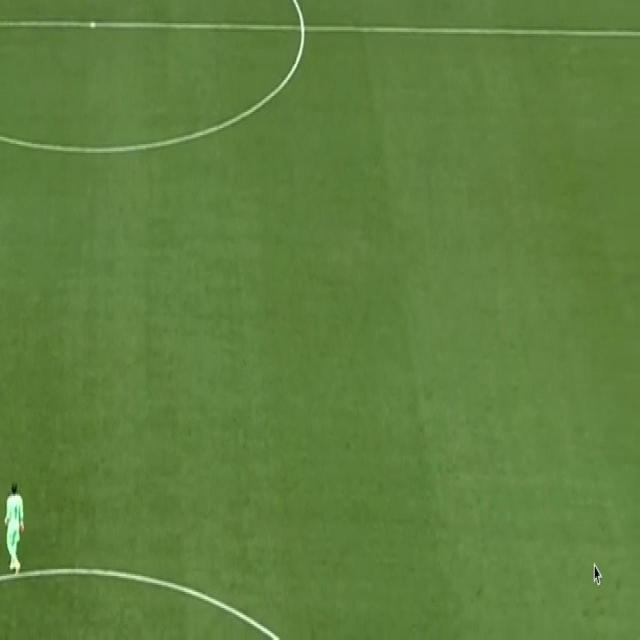ball: (590, 563, 600, 585)
player-white: (4, 478, 26, 574)
